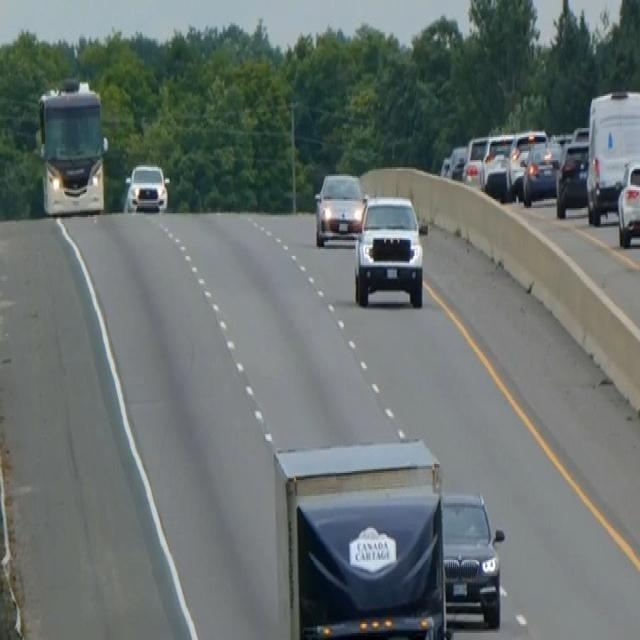bus: (34, 75, 110, 217)
car: (440, 487, 505, 628), (313, 169, 365, 247), (554, 137, 589, 217), (509, 128, 547, 199), (521, 139, 560, 206), (479, 132, 515, 199), (125, 160, 169, 213), (616, 155, 639, 247), (461, 133, 488, 185), (447, 144, 467, 180)
jeep: (351, 190, 428, 310)
lorry: (272, 436, 452, 636)
